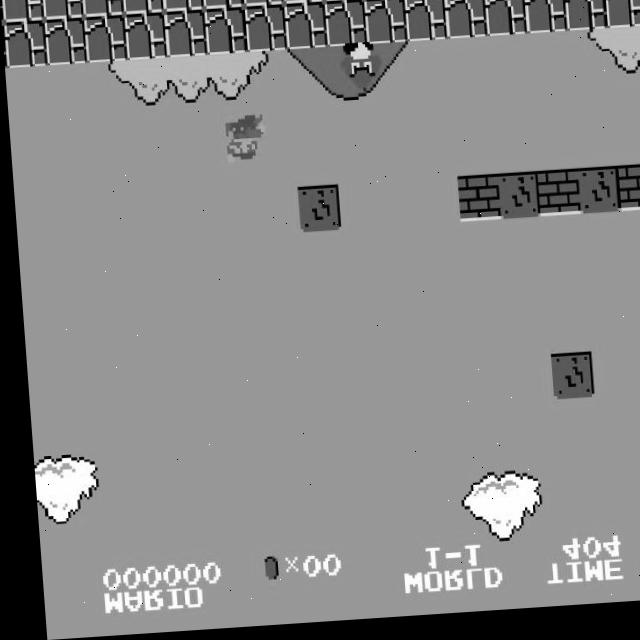1- brick_block: (454, 180, 498, 228), (534, 176, 578, 224), (615, 172, 640, 220)
11- little_mario: (220, 118, 266, 168)
13- mystery_block: (294, 189, 338, 237), (494, 178, 538, 226), (574, 174, 618, 222), (545, 359, 588, 407)
17- undestructible_block: (323, 3, 367, 52), (363, 1, 407, 50), (3, 20, 47, 68), (43, 18, 87, 66), (83, 16, 127, 64), (123, 14, 167, 62), (163, 12, 207, 60), (203, 10, 247, 58), (243, 8, 287, 56), (283, 6, 327, 54), (403, 0, 447, 47), (443, 0, 487, 45), (483, 0, 527, 43), (523, 0, 567, 41), (563, 0, 607, 39), (604, 0, 640, 37), (2, 0, 44, 23), (42, 0, 84, 21), (82, 0, 124, 19), (122, 0, 164, 17), (162, 0, 204, 15), (202, 0, 244, 12), (242, 0, 284, 10), (282, 0, 324, 8), (322, 0, 364, 6), (1, 23, 6, 69), (362, 0, 404, 4), (402, 0, 444, 2), (0, 1, 3, 23)
8- goomba: (336, 46, 382, 97)
